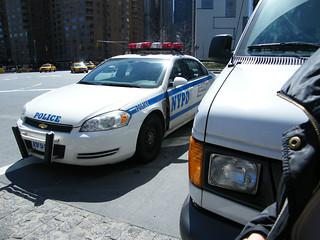fender-dent: (120, 98, 171, 119)
